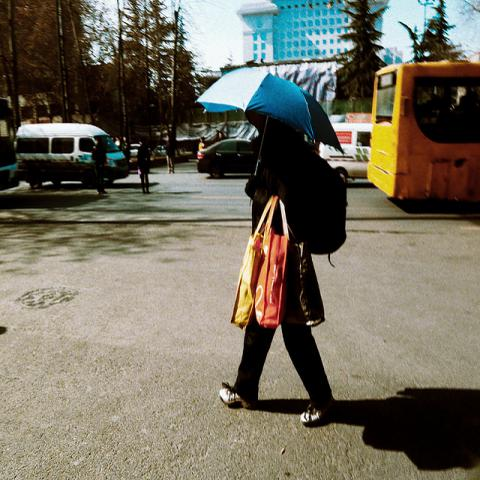bus: (365, 62, 479, 209), (13, 119, 133, 189)
car: (14, 123, 131, 192), (319, 123, 373, 185), (197, 138, 254, 179), (176, 128, 198, 148), (130, 144, 140, 157)
